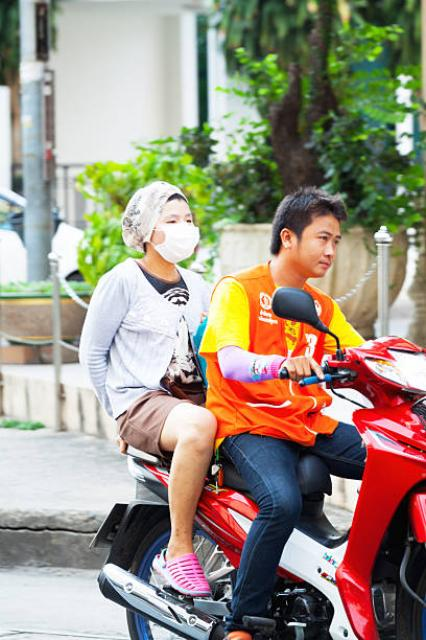motor: (98, 337, 426, 640)
non-helm: (124, 182, 203, 264), (272, 192, 343, 278)
